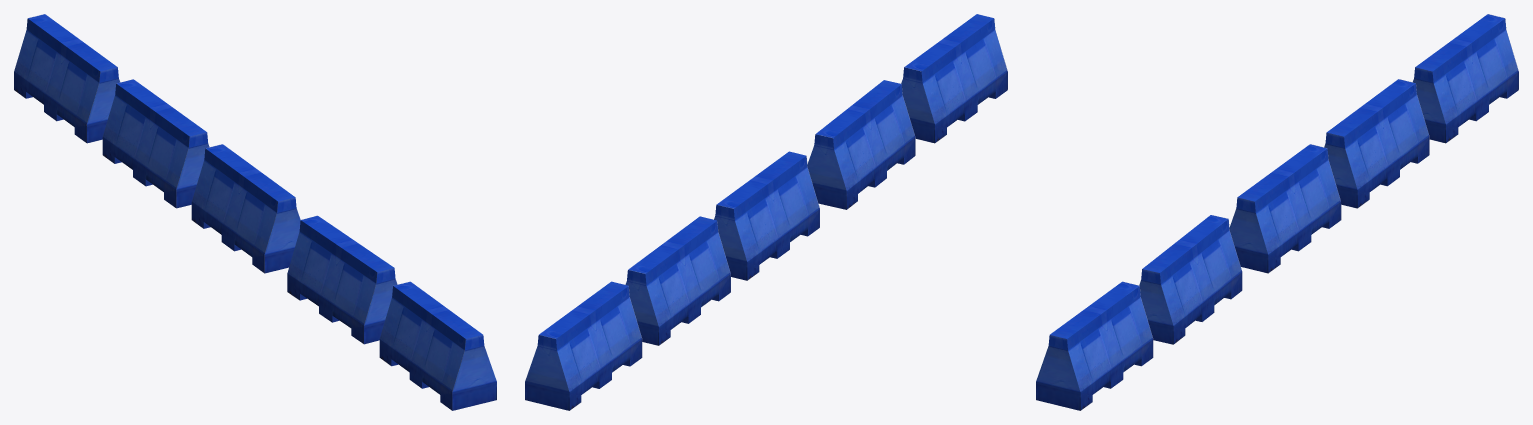
File: Barrier-Blue-five.fbx
3 views of the same model, side by side, from view 1: azimuth 30°, elevation 25°; view 2: azimuth 150°, elevation 25°; view 3: azimuth 330°, elevation 25° (orthographic).
Parts seen in each view (by area): view 1: Barrier; view 2: Barrier; view 3: Barrier.
Boxes of the visible parts, <box> form: Barrier: <box>14,14,496,410</box>; Barrier: <box>525,14,1007,410</box>; Barrier: <box>1036,14,1518,410</box>.
Size of the model in its own units: 76.85 by 104 by 1204.
